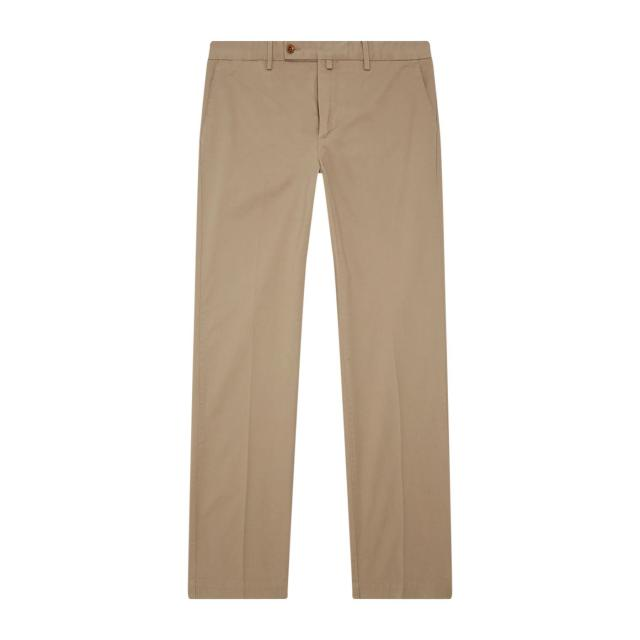long-pants: (187, 41, 453, 603)
